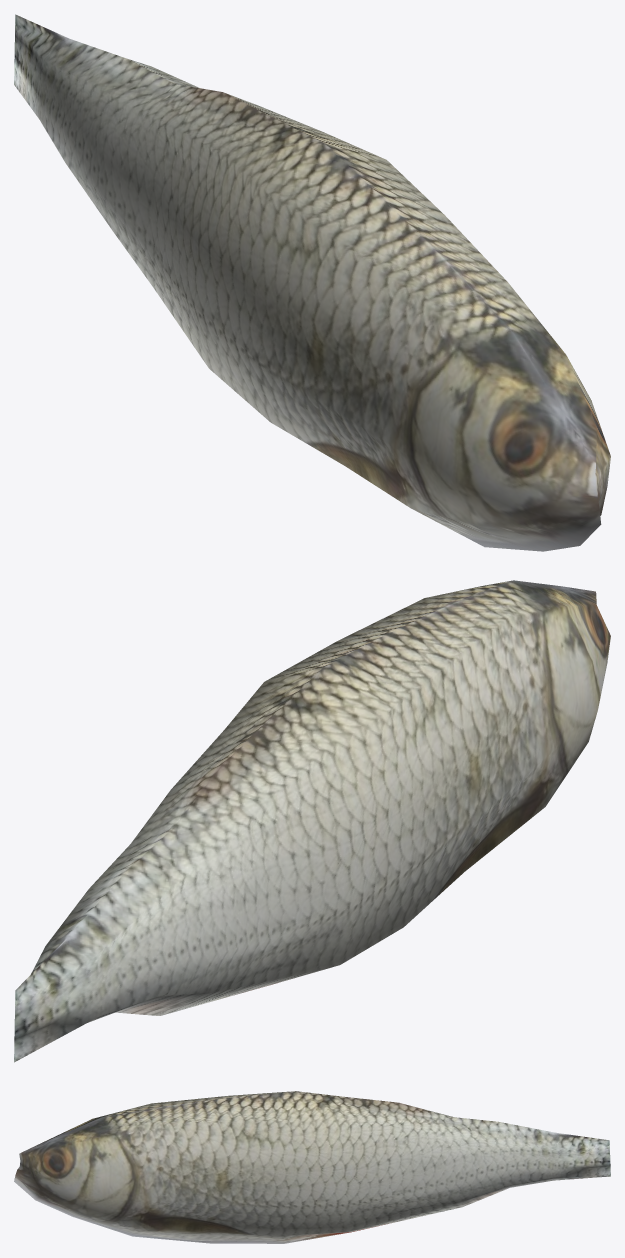
The model's file is fisch02.fbx.
3 renders of one model, top to bottom at view 1: azimuth 30°, elevation 25°; view 2: azimuth 150°, elevation 25°; view 3: azimuth 270°, elevation 25°, orthographic. The views are drawn at different scales.
Visible parts, largest first — view 1: Fisch2; view 2: Fisch2; view 3: Fisch2.
Part boxes in pixels (box(x1,y1,x2,y2)): Fisch2: box(14, 14, 610, 551); Fisch2: box(14, 580, 610, 1062); Fisch2: box(14, 1091, 610, 1243).
Bounding box in the file's own units: 53.07 × 91.19 × 323.
